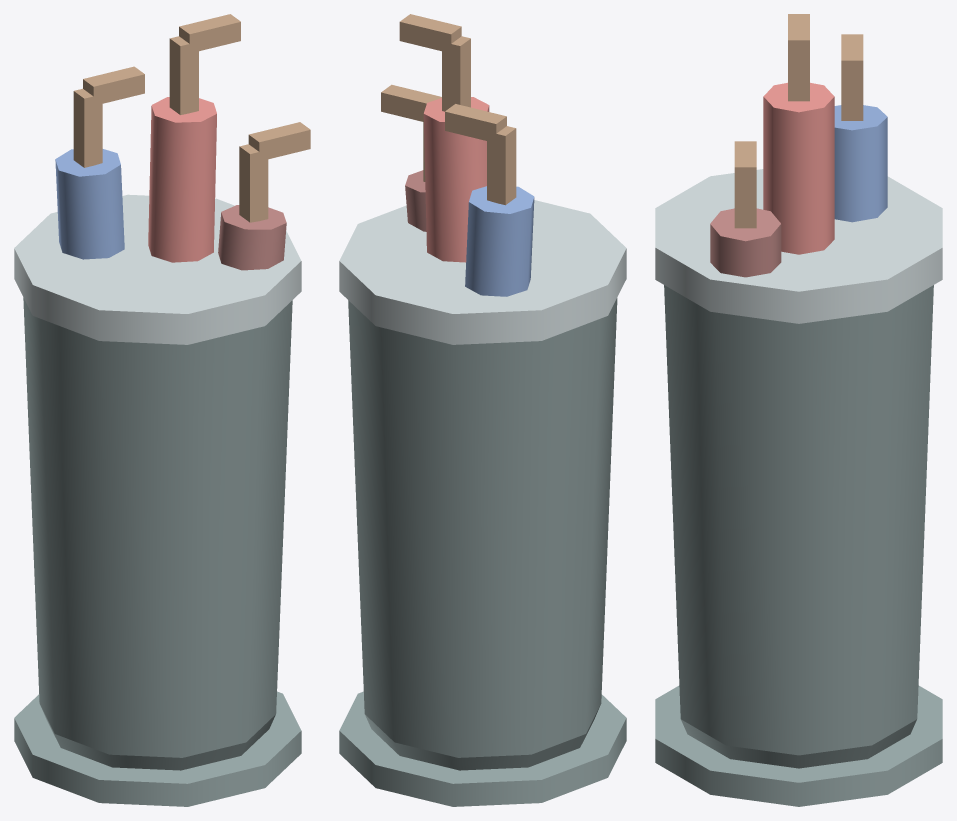
The model's file is umbrellaStand.glb.
3 renders of one model, left to right at view 1: azimuth 30°, elevation 25°; view 2: azimuth 150°, elevation 25°; view 3: azimuth 270°, elevation 25°, orthographic. The views are drawn at different scales.
Parts seen in each view (by area): view 1: umbrellaStand; view 2: umbrellaStand; view 3: umbrellaStand.
Part boxes in pixels (x1=…): umbrellaStand: x1=14, y1=14, x2=310, y2=806; umbrellaStand: x1=339, y1=14, x2=626, y2=806; umbrellaStand: x1=655, y1=14, x2=942, y2=806.
Bounding box in the file's own units: 0.17 × 0.4613 × 0.1617.
